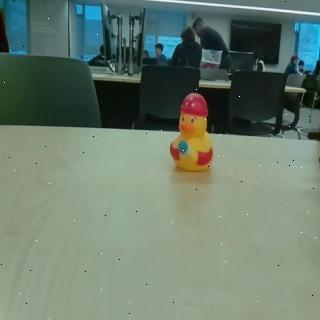duck_specialty: (169, 91, 216, 174)
